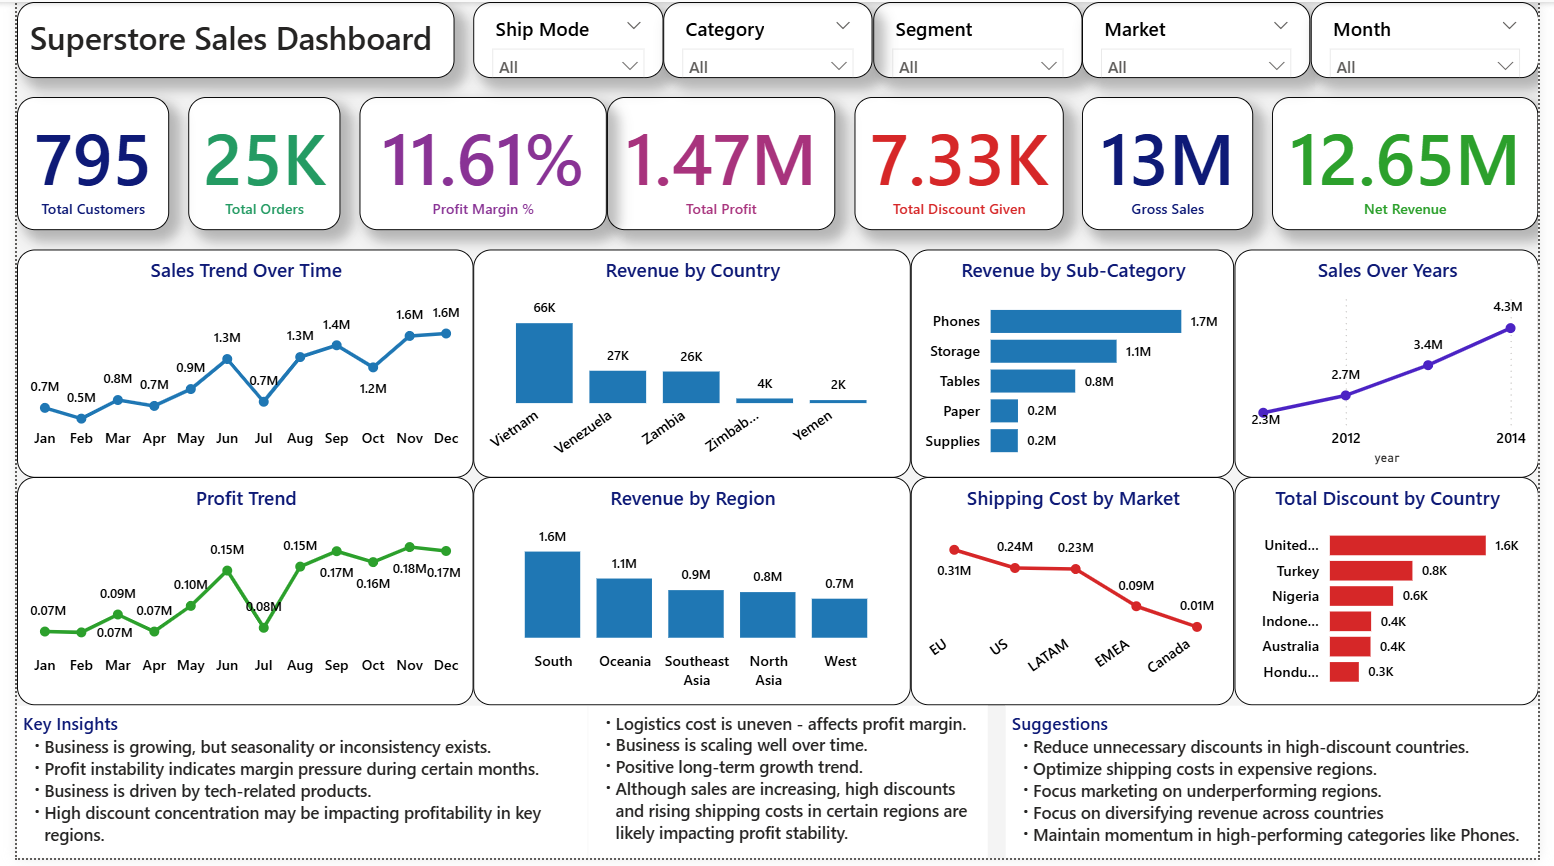

Layout of this report page (visuals, bound fields, positions):
{"tool":"powerbi","page":{"name":"Page 1","canvas":[1280,720],"ordinal":0},"visuals":[{"type":"card","fields":{"Values":["SuperStoreOrders.Total Orders"]},"box":[144,80,128,112],"z":0},{"type":"card","fields":{"Values":["SuperStoreOrders.Total Discount Display"]},"box":[704,80,176,112],"z":1000},{"type":"card","fields":{"Values":["SuperStoreOrders.Net Sales"]},"box":[1056,80,224,112],"z":2000},{"type":"card","fields":{"Values":["SuperStoreOrders.Total Sales"]},"box":[896,80,144,112],"z":3000},{"type":"card","fields":{"Values":["SuperStoreOrders.Total Customers"]},"box":[0,80,128,112],"z":4000},{"type":"card","fields":{"Values":["SuperStoreOrders.Total Profit"]},"box":[496,80,192,112],"z":5000},{"type":"card","fields":{"Values":["SuperStoreOrders.Profit Margin %"]},"box":[288,80,208,112],"z":6000},{"type":"lineChart","title":"Sales Trend Over Time","fields":{"Y":["SuperStoreOrders.Net Sales"],"Category":["SuperStoreOrders.Month Short"]},"box":[0,208,384,192],"z":7000},{"type":"lineChart","title":"Profit Trend","fields":{"Category":["SuperStoreOrders.Month Short"],"Y":["SuperStoreOrders.Total Profit"]},"box":[0,400,384,192],"z":8000},{"type":"columnChart","title":"Revenue by Country","fields":{"Category":["SuperStoreOrders.country"],"Y":["SuperStoreOrders.Net Sales"]},"box":[384,208,368,192],"z":9000},{"type":"columnChart","title":"Revenue by Region","fields":{"Category":["SuperStoreOrders.region"],"Y":["SuperStoreOrders.Net Sales"]},"box":[384,400,368,192],"z":10000},{"type":"barChart","title":"Revenue by Sub-Category","fields":{"Category":["SuperStoreOrders.sub_category"],"Y":["SuperStoreOrders.Net Sales"]},"box":[752,208,272,192],"z":11000},{"type":"lineChart","title":"Shipping Cost by Market","fields":{"Y":["Sum(SuperStoreOrders.shipping_cost)"],"Category":["SuperStoreOrders.market"]},"box":[752,400,272,192],"z":12000},{"type":"barChart","title":"Total Discount by Country","fields":{"Category":["SuperStoreOrders.country"],"Y":["SuperStoreOrders.Total Discount"]},"box":[1024,400,256,192],"z":13000},{"type":"lineChart","title":"Sales Over Years","fields":{"Category":["SuperStoreOrders.year"],"Y":["SuperStoreOrders.Net Sales"]},"box":[1024,208,256,192],"z":14000},{"type":"textbox","box":[0,0,368,64],"z":15000},{"type":"slicer","fields":{"Values":["SuperStoreOrders.ship_mode"]},"box":[384,0,160,64],"z":16000},{"type":"slicer","fields":{"Values":["SuperStoreOrders.segment"]},"box":[720,0,176,64],"z":17000},{"type":"slicer","fields":{"Values":["SuperStoreOrders.market"]},"box":[896,0,192,64],"z":18000},{"type":"slicer","fields":{"Values":["SuperStoreOrders.order_date.Variation.Date Hierarchy.Month"]},"box":[1088,0,192,64],"z":19000},{"type":"slicer","fields":{"Values":["SuperStoreOrders.category"]},"box":[544,0,176,64],"z":20000},{"type":"textbox","box":[0,592,480,128],"z":21000},{"type":"textbox","box":[480,592,336,128],"z":22000},{"type":"textbox","box":[832,592,448,128],"z":23000}]}

Visuals, with their boxes in screenshot pixels (x1, y1, x2, y2), scaled from the page's 1280x720 canvas onto the 1554x866 screenshot:
card - SuperStoreOrders.Total Orders: BBox(175, 96, 330, 231)
card - SuperStoreOrders.Total Discount Display: BBox(855, 96, 1068, 231)
card - SuperStoreOrders.Net Sales: BBox(1282, 96, 1553, 231)
card - SuperStoreOrders.Total Sales: BBox(1088, 96, 1263, 231)
card - SuperStoreOrders.Total Customers: BBox(0, 96, 155, 231)
card - SuperStoreOrders.Total Profit: BBox(602, 96, 835, 231)
card - SuperStoreOrders.Profit Margin %: BBox(350, 96, 602, 231)
"Sales Trend Over Time" lineChart: BBox(0, 250, 466, 481)
"Profit Trend" lineChart: BBox(0, 481, 466, 712)
"Revenue by Country" columnChart: BBox(466, 250, 913, 481)
"Revenue by Region" columnChart: BBox(466, 481, 913, 712)
"Revenue by Sub-Category" barChart: BBox(913, 250, 1243, 481)
"Shipping Cost by Market" lineChart: BBox(913, 481, 1243, 712)
"Total Discount by Country" barChart: BBox(1243, 481, 1553, 712)
"Sales Over Years" lineChart: BBox(1243, 250, 1553, 481)
textbox: BBox(0, 0, 447, 77)
slicer - SuperStoreOrders.ship_mode: BBox(466, 0, 660, 77)
slicer - SuperStoreOrders.segment: BBox(874, 0, 1088, 77)
slicer - SuperStoreOrders.market: BBox(1088, 0, 1321, 77)
slicer - SuperStoreOrders.order_date.Variation.Date Hierarchy.Month: BBox(1321, 0, 1553, 77)
slicer - SuperStoreOrders.category: BBox(660, 0, 874, 77)
textbox: BBox(0, 712, 583, 865)
textbox: BBox(583, 712, 991, 865)
textbox: BBox(1010, 712, 1553, 865)
